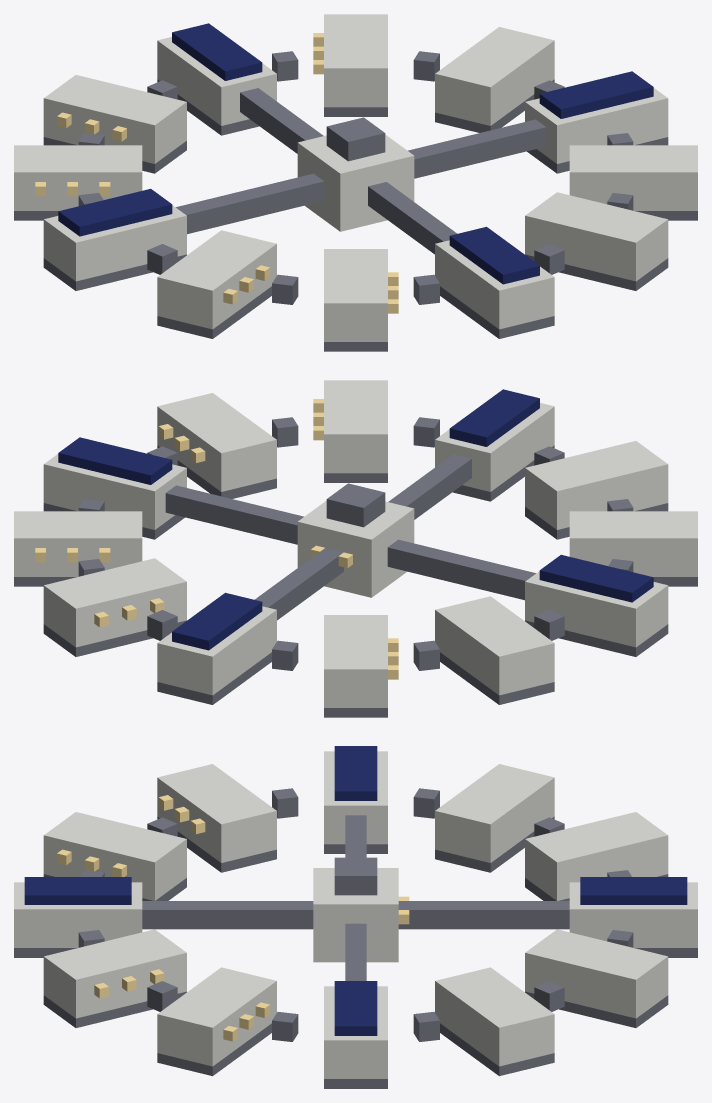
The model's file is endurance.obj.
The picture shows the model from 3 angles, top to bottom: view 1: azimuth 30°, elevation 25°; view 2: azimuth 150°, elevation 25°; view 3: azimuth 270°, elevation 25°; orthographic projection.
Visible parts, largest first — view 1: blanco, gris, paneles, luces; view 2: blanco, gris, paneles, luces; view 3: blanco, gris, paneles, luces.
Part boxes in pixels (x1,y1,x2,y2): blanco: [14, 14, 697, 341]; gris: [14, 51, 697, 351]; paneles: [58, 23, 653, 284]; luces: [35, 33, 398, 313]; blanco: [14, 380, 697, 707]; gris: [14, 417, 697, 717]; paneles: [58, 389, 653, 650]; luces: [35, 399, 398, 679]; blanco: [14, 751, 697, 1078]; gris: [14, 788, 697, 1088]; paneles: [24, 746, 687, 1035]; luces: [57, 795, 409, 1041].
Bounding box in the file's own units: 6.4 × 0.8 × 6.4.
